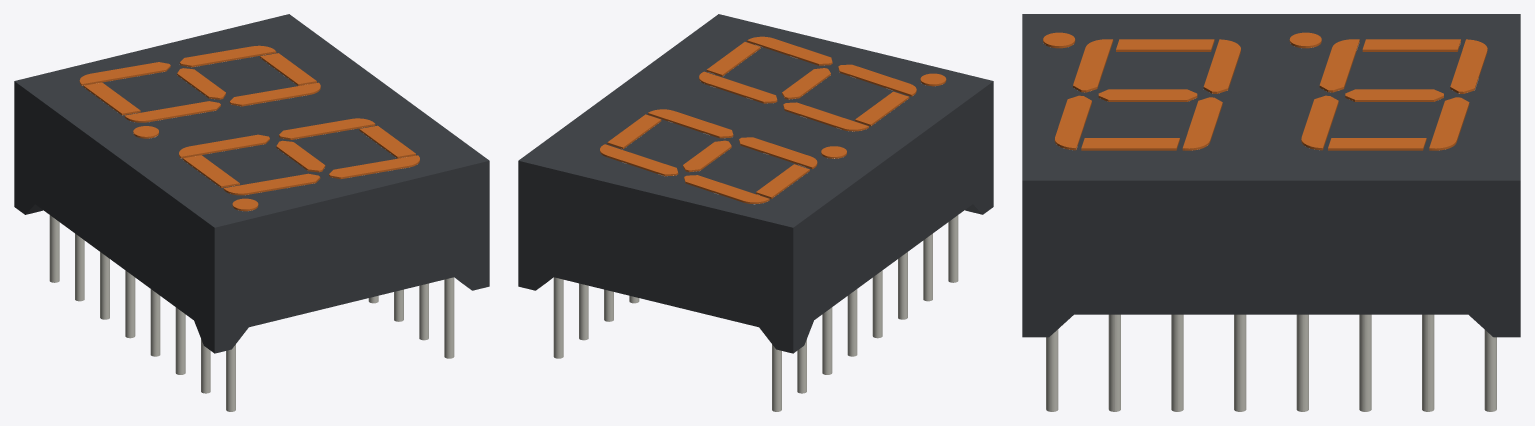
Rendered from kc-da04-11sekwa.glb.
3 renders of one model, left to right at view 1: azimuth 30°, elevation 25°; view 2: azimuth 150°, elevation 25°; view 3: azimuth 270°, elevation 25°, orthographic. The views are drawn at different scales.
Parts seen in each view (by area): view 1: 0.08333333333333333_0.08333333333333333_0.08333333333333333_, 0.5833333333333334_0.16666666666666666_0_0, 0.6666666666666666_0.6666666666666666_0.5833333333333334_0.8; view 2: 0.08333333333333333_0.08333333333333333_0.08333333333333333_, 0.5833333333333334_0.16666666666666666_0_0, 0.6666666666666666_0.6666666666666666_0.5833333333333334_0.8; view 3: 0.08333333333333333_0.08333333333333333_0.08333333333333333_, 0.5833333333333334_0.16666666666666666_0_0, 0.6666666666666666_0.6666666666666666_0.5833333333333334_0.8.
Boxes of the visible parts, x1,y1,x2,y2 form: 0.08333333333333333_0.08333333333333333_0.08333333333333333_: (14, 14, 489, 353); 0.5833333333333334_0.16666666666666666_0_0: (79, 45, 419, 211); 0.6666666666666666_0.6666666666666666_0.5833333333333334_0.8: (49, 215, 454, 411); 0.08333333333333333_0.08333333333333333_0.08333333333333333_: (518, 14, 993, 353); 0.5833333333333334_0.16666666666666666_0_0: (600, 36, 946, 203); 0.6666666666666666_0.6666666666666666_0.5833333333333334_0.8: (553, 215, 958, 411); 0.08333333333333333_0.08333333333333333_0.08333333333333333_: (1022, 14, 1520, 337); 0.5833333333333334_0.16666666666666666_0_0: (1043, 32, 1487, 150); 0.6666666666666666_0.6666666666666666_0.5833333333333334_0.8: (1046, 314, 1496, 411).
Bounding box in the file's own units: 1.6 × 1.11 × 2.02.
